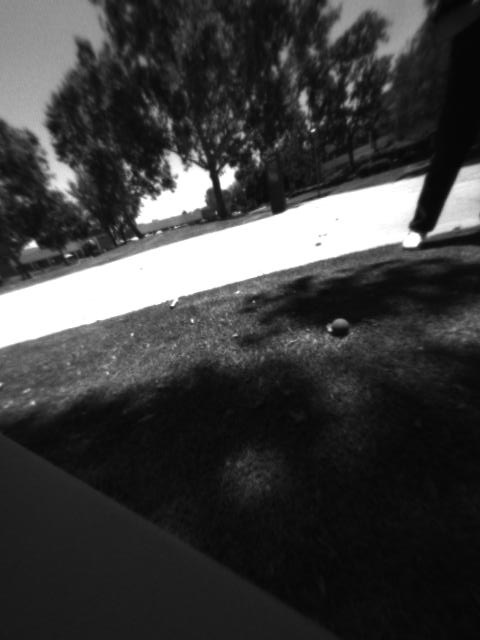dogtoy: (321, 308, 359, 345)
